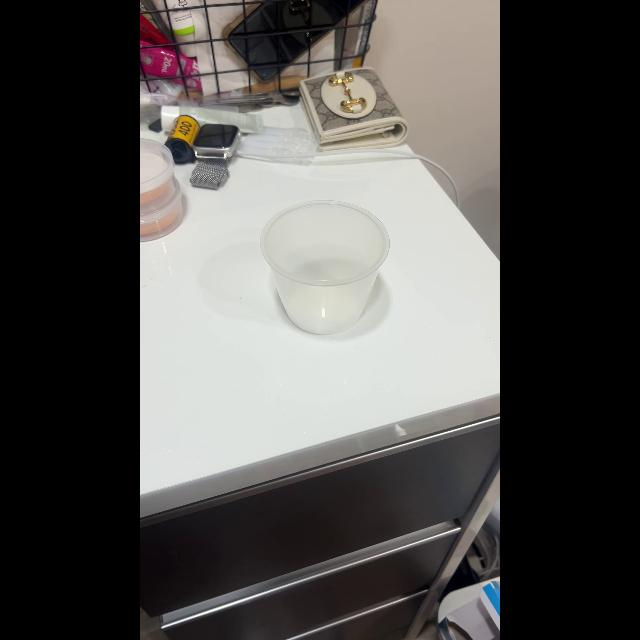clean: (261, 200, 389, 336)
